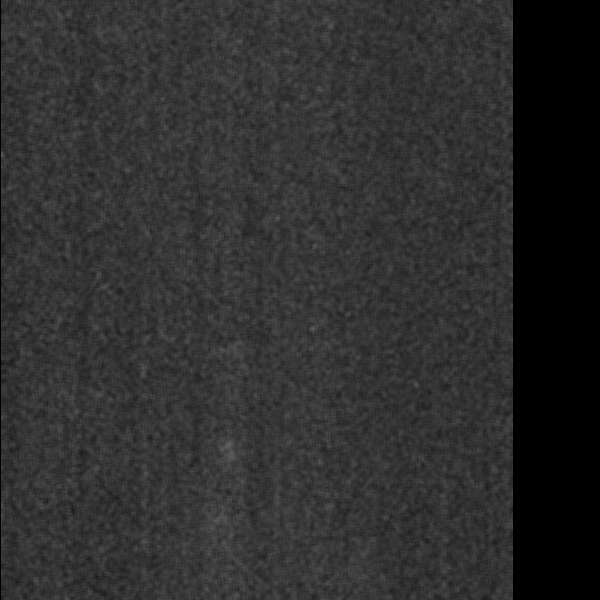spark: (216, 437, 240, 473)
